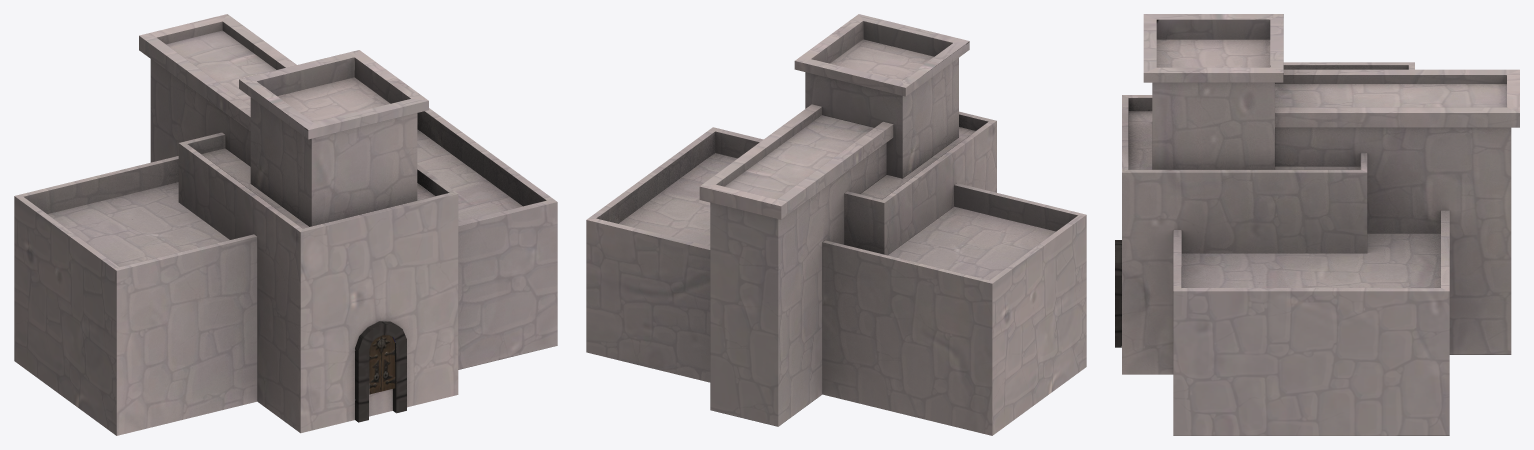
File: Castillo_pieza_central.fbx
3 views of the same model, side by side, from view 1: azimuth 30°, elevation 25°; view 2: azimuth 150°, elevation 25°; view 3: azimuth 270°, elevation 25° (orthographic). The views are drawn at different scales.
Parts seen in each view (by area): view 1: Obj_castillo_pieza_central; view 2: Obj_castillo_pieza_central; view 3: Obj_castillo_pieza_central.
Boxes of the visible parts, x1,y1,x2,y2 form: Obj_castillo_pieza_central: (14,14,557,435); Obj_castillo_pieza_central: (586,14,1086,435); Obj_castillo_pieza_central: (1115,14,1519,435).
Size of the model in its own units: 3790 by 2488 by 3123.
